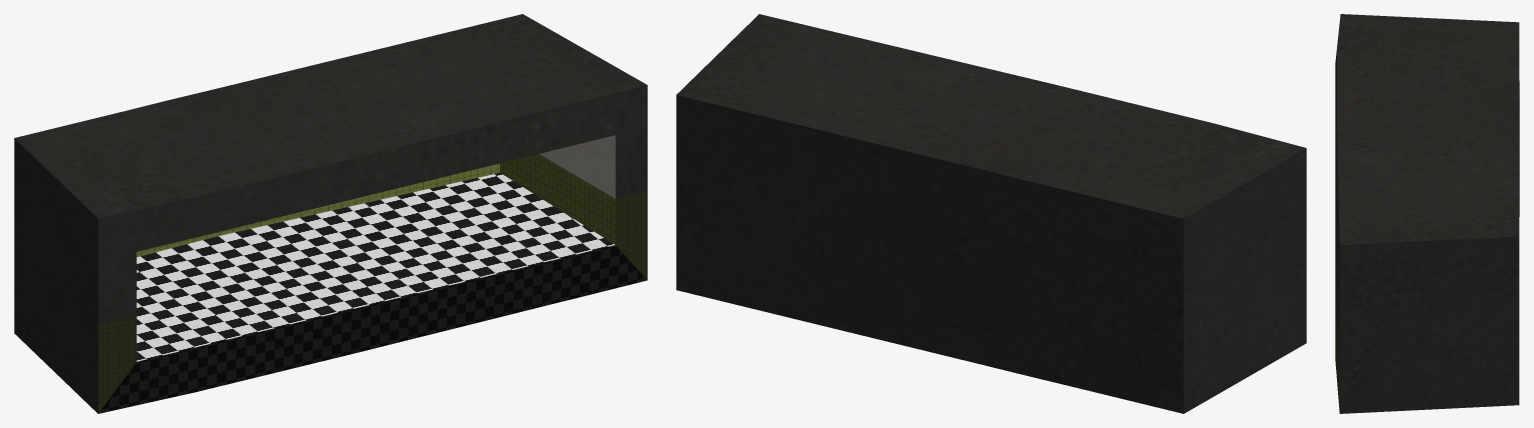
Rendered from Room3.fbx.
3 renders of one model, left to right at view 1: azimuth 30°, elevation 25°; view 2: azimuth 150°, elevation 25°; view 3: azimuth 270°, elevation 25°, orthographic. The views are drawn at different scales.
Parts seen in each view (by area): view 1: room_3; view 2: room_3; view 3: room_3.
Part boxes in pixels (x1=…): room_3: x1=14, y1=14, x2=647, y2=413; room_3: x1=676, y1=14, x2=1306, y2=413; room_3: x1=1335, y1=14, x2=1519, y2=413.
Bounding box in the file's own units: 1031 × 351 × 347.
6 materials, 6 textured.
